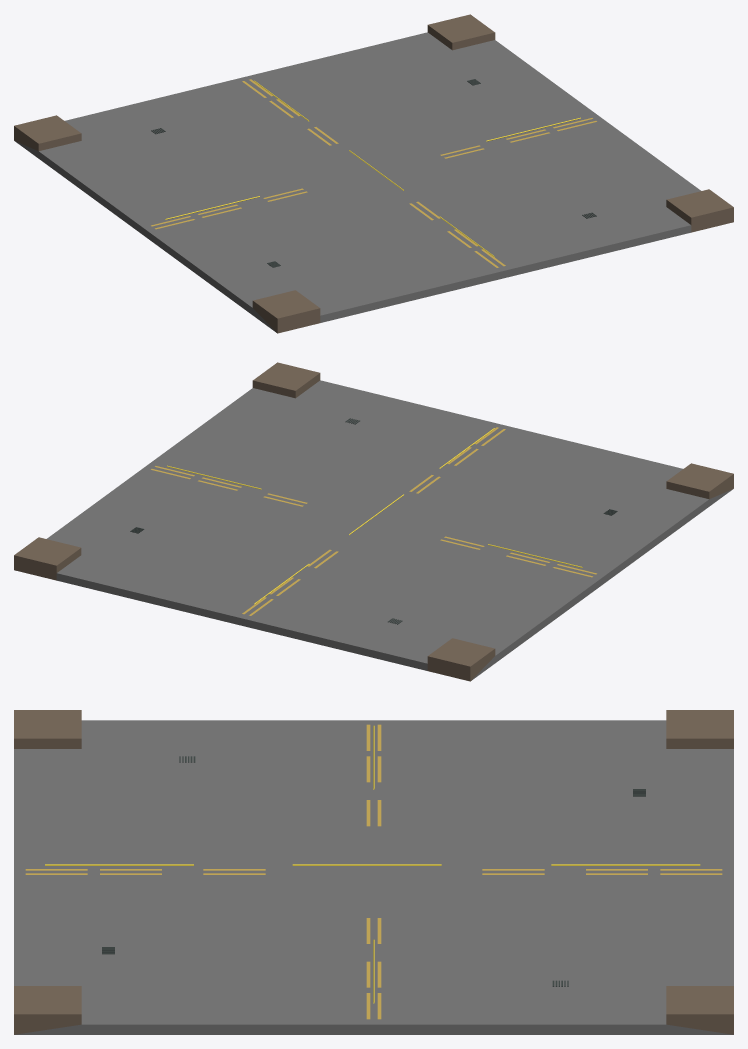
The picture shows the model from 3 angles, top to bottom: view 1: azimuth 30°, elevation 25°; view 2: azimuth 150°, elevation 25°; view 3: azimuth 270°, elevation 25°; orthographic projection. The views are drawn at different scales.
Parts seen in each view (by area): view 1: RD43 | archived geometry, Fitted street and landscape details, RD43 | line, light and sprite surfaces; view 2: RD43 | archived geometry, Fitted street and landscape details, RD43 | line, light and sprite surfaces; view 3: RD43 | archived geometry, Fitted street and landscape details, RD43 | line, light and sprite surfaces.
Boxes of the visible parts, x1,y1,x2,y2 form: RD43 | archived geometry: (14, 14, 733, 333); Fitted street and landscape details: (151, 79, 596, 267); RD43 | line, light and sprite surfaces: (165, 80, 580, 257); RD43 | archived geometry: (14, 362, 733, 681); Fitted street and landscape details: (130, 418, 617, 624); RD43 | line, light and sprite surfaces: (167, 428, 582, 604); RD43 | archived geometry: (14, 710, 733, 1034); Fitted street and landscape details: (25, 724, 722, 1019); RD43 | line, light and sprite surfaces: (45, 725, 700, 1003).
Bounding box in the file's own units: 16 × 0.5 × 16.
